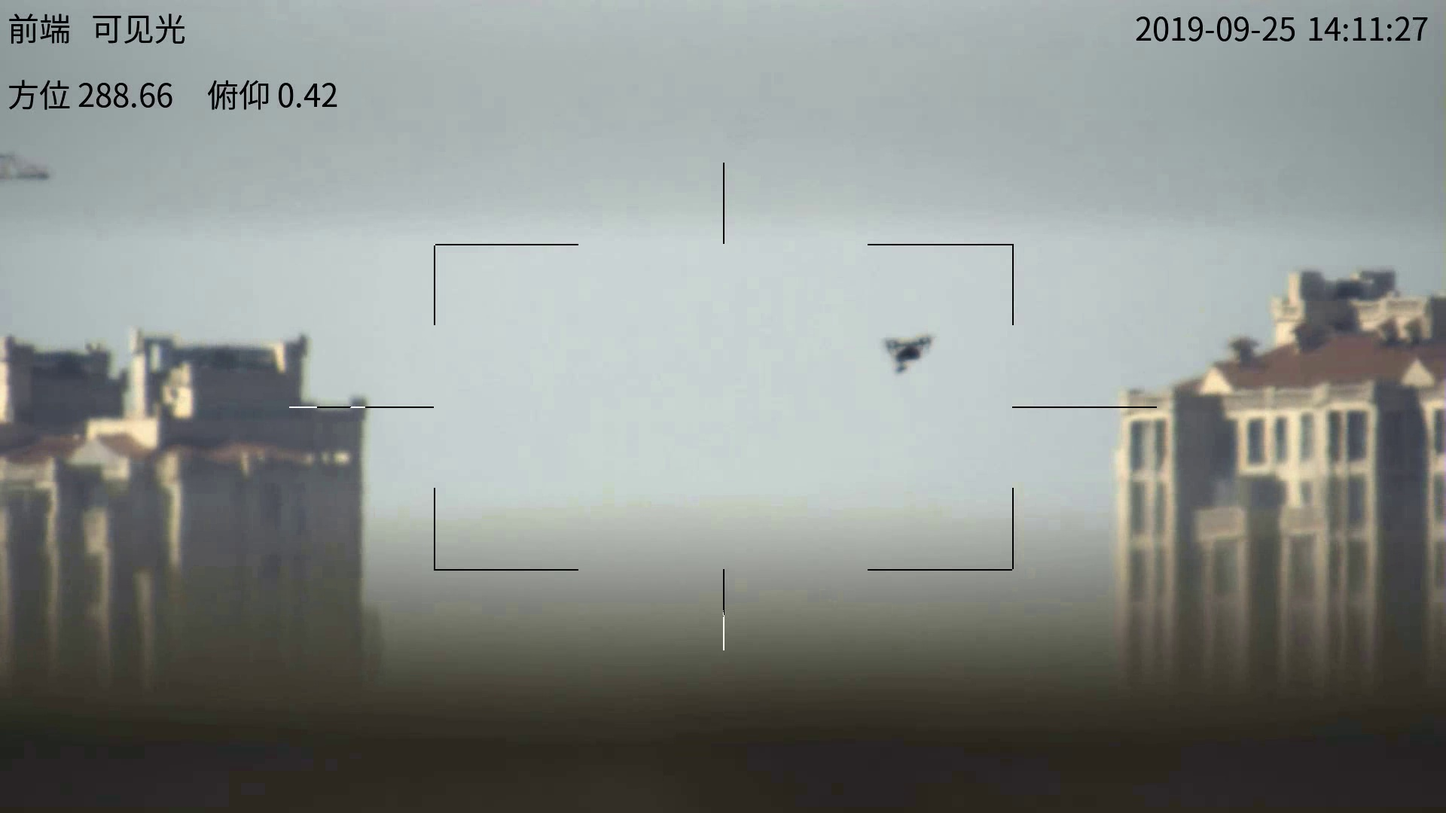drone_other: (879, 327, 940, 378)
